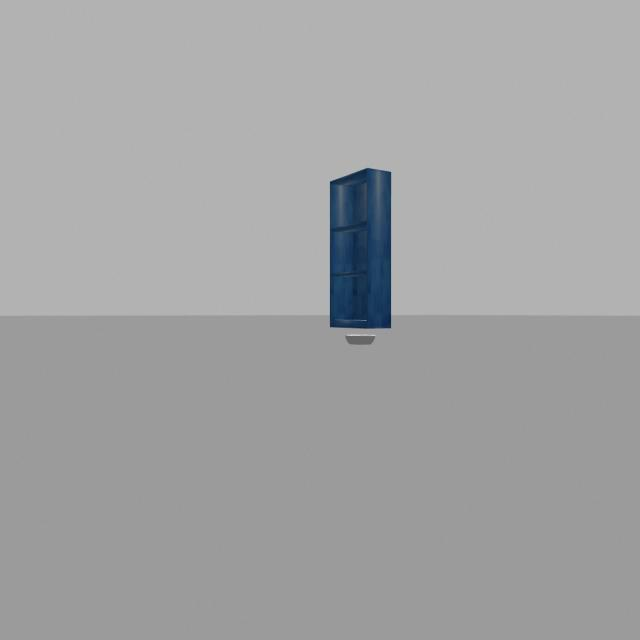bowl: (344, 332, 380, 348)
shelf: (324, 154, 398, 341)
